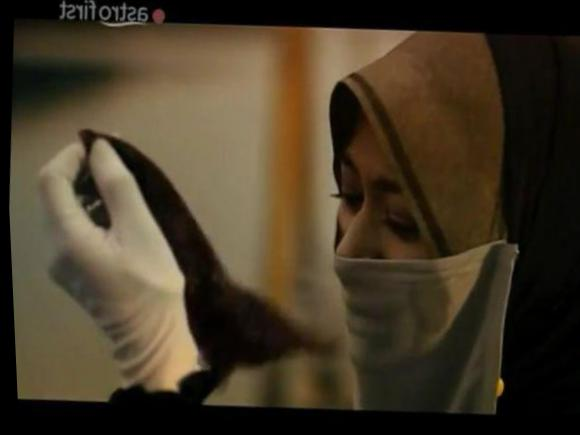WRONG: (315, 125, 479, 385)
